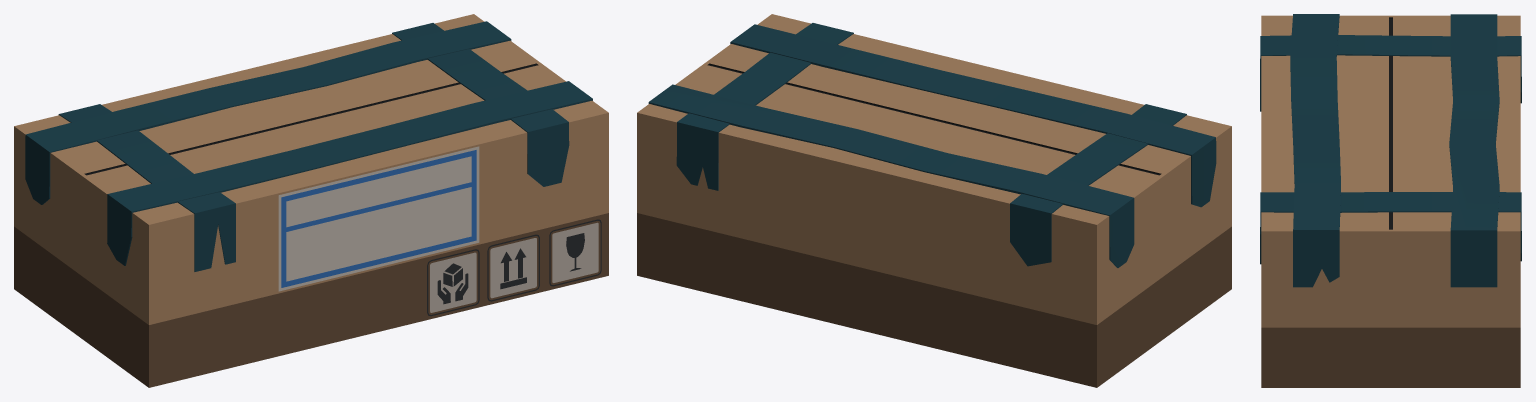
Rendered from SM_Cardboard_Box_02_Closed.glb.
3 views of the same model, side by side, from view 1: azimuth 30°, elevation 25°; view 2: azimuth 150°, elevation 25°; view 3: azimuth 270°, elevation 25° (orthographic). The views are drawn at different scales.
Visible parts, largest first — view 1: SM_Cardboard_Box_02_Closed; view 2: SM_Cardboard_Box_02_Closed; view 3: SM_Cardboard_Box_02_Closed.
Part boxes in pixels (left/top/right/bottom): SM_Cardboard_Box_02_Closed: left=14, top=14, right=608, bottom=387; SM_Cardboard_Box_02_Closed: left=637, top=14, right=1231, bottom=387; SM_Cardboard_Box_02_Closed: left=1260, top=14, right=1521, bottom=387.
Bounding box in the file's own units: 0.2966 × 0.1013 × 0.1514.
1 material, 1 textured.
